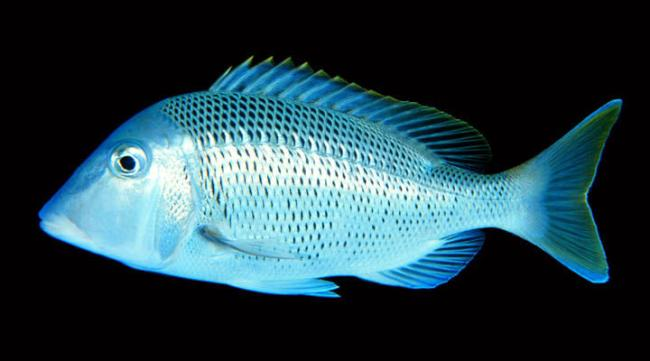fish: (39, 56, 624, 298)
